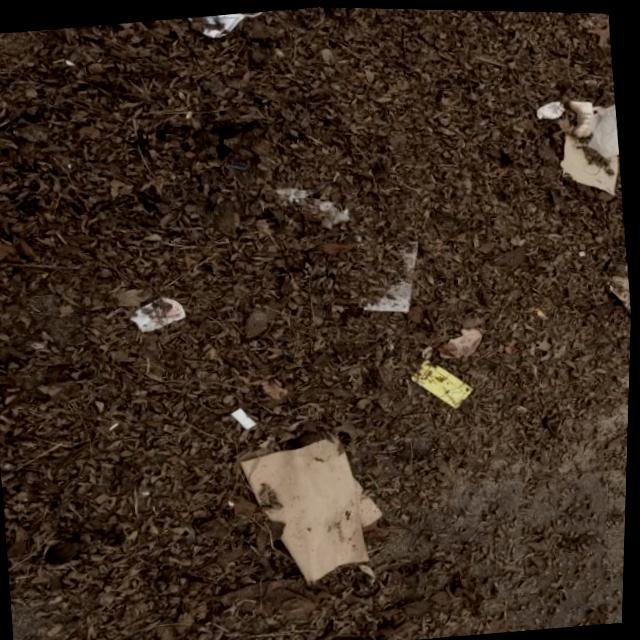Mask: (174, 7, 267, 42)
Paper: (236, 425, 396, 588), (357, 235, 428, 314), (535, 96, 567, 117)
